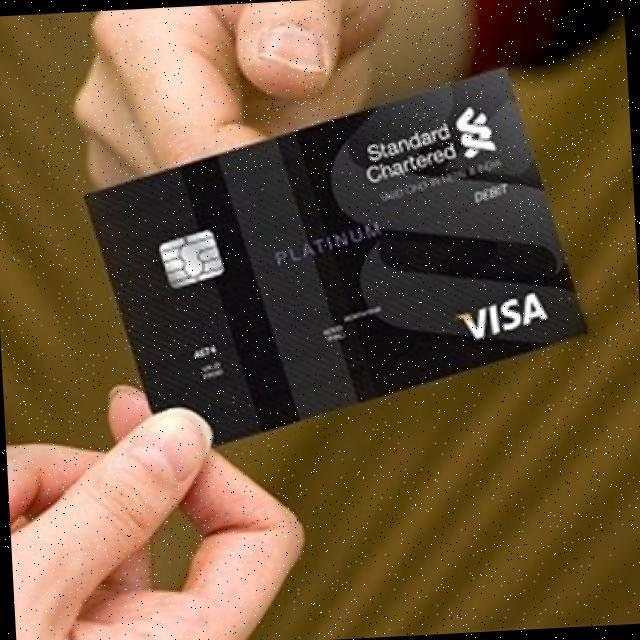Standard Chartered: (368, 104, 499, 181)
